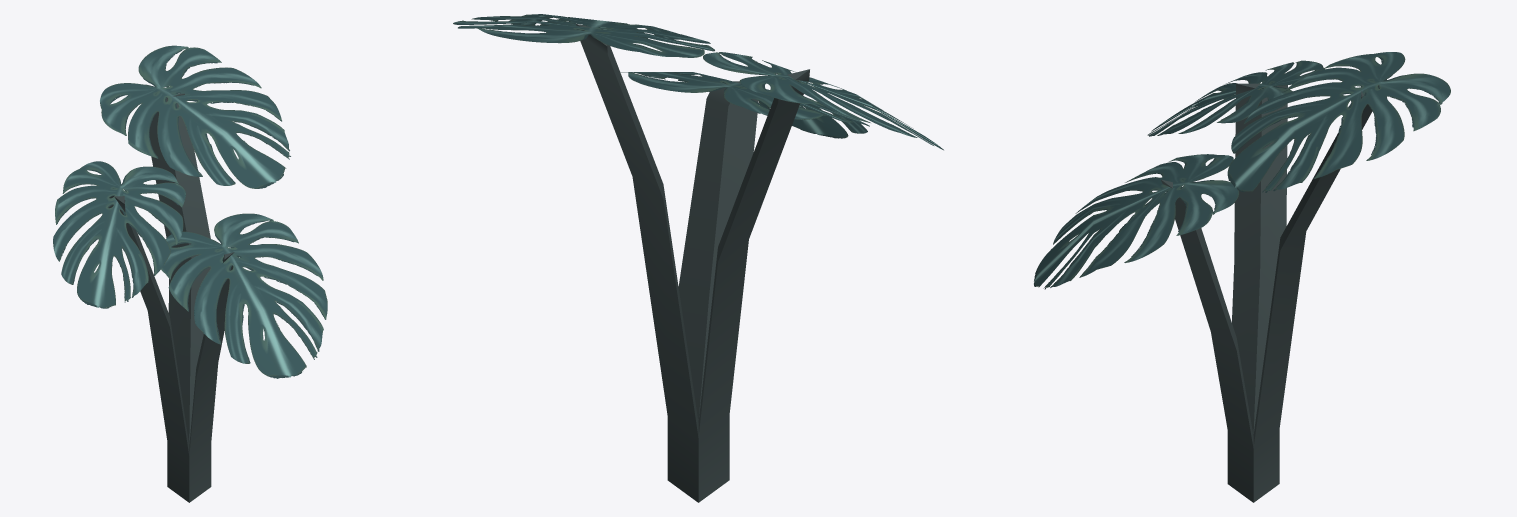
Rendered from taro.fbx.
3 views of the same model, side by side, from view 1: azimuth 30°, elevation 25°; view 2: azimuth 150°, elevation 25°; view 3: azimuth 270°, elevation 25° (orthographic). The views are drawn at different scales.
Visible parts, largest first — view 1: pPlane8, pPlane9, pCylinder3, pPlane7; view 2: pCylinder3, pPlane9, pPlane7, pPlane8; view 3: pCylinder3, pPlane9, pPlane8, pPlane7.
Boxes of the visible parts, left/top/right/bottom form: pPlane8: left=161, top=213, right=327, bottom=378; pPlane9: left=100, top=45, right=290, bottom=188; pCylinder3: left=109, top=93, right=238, bottom=502; pPlane7: left=53, top=161, right=185, bottom=308; pCylinder3: left=576, top=24, right=809, bottom=502; pPlane9: left=453, top=14, right=714, bottom=57; pPlane7: left=703, top=52, right=943, bottom=150; pPlane8: left=621, top=72, right=869, bottom=138; pCylinder3: left=1161, top=79, right=1386, bottom=502; pPlane9: left=1227, top=52, right=1450, bottom=192; pPlane8: left=1034, top=154, right=1239, bottom=289; pPlane7: left=1147, top=60, right=1324, bottom=136.
Bounding box in the file's own units: 4.84 × 4.71 × 4.62.
